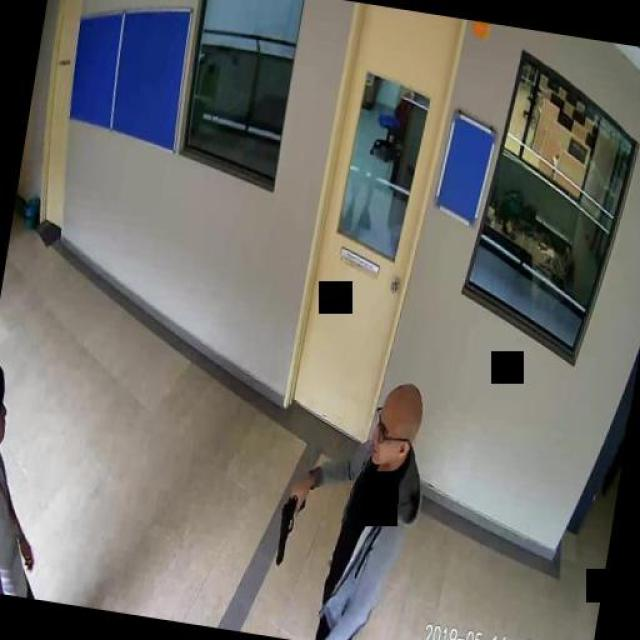gun: (273, 485, 305, 565)
